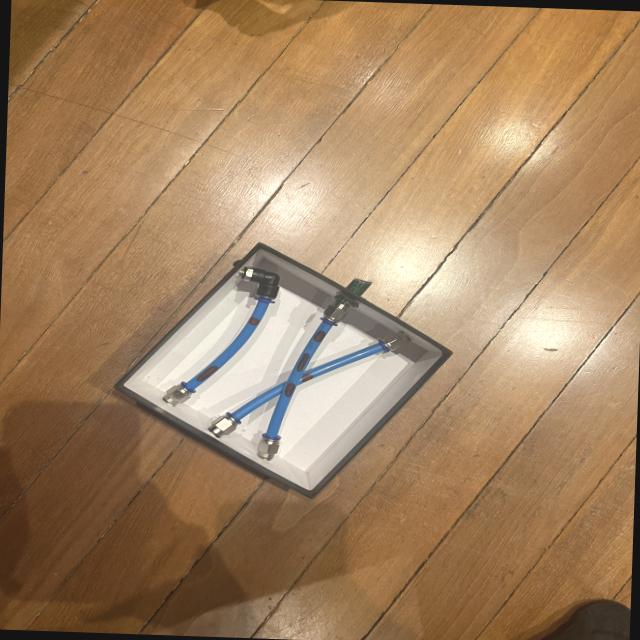hose_damage: (194, 363, 220, 383), (293, 352, 312, 373), (283, 382, 297, 398), (311, 329, 326, 342), (300, 373, 315, 383), (247, 316, 261, 326)
